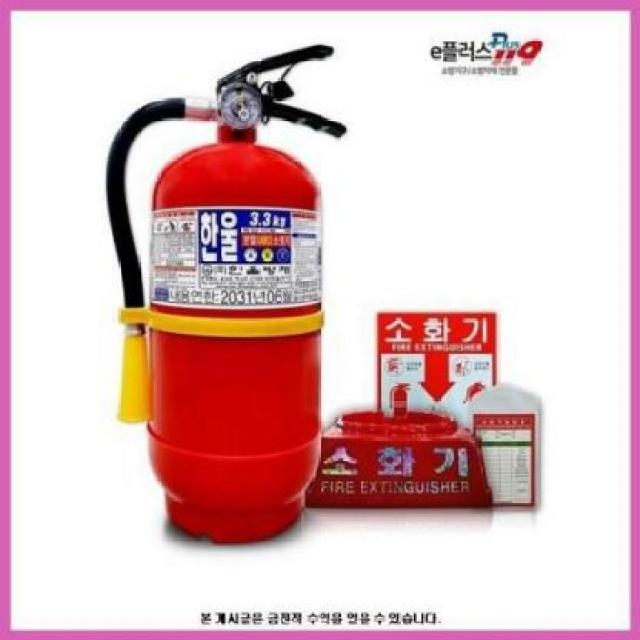fire extinguisher: (106, 44, 346, 545)
